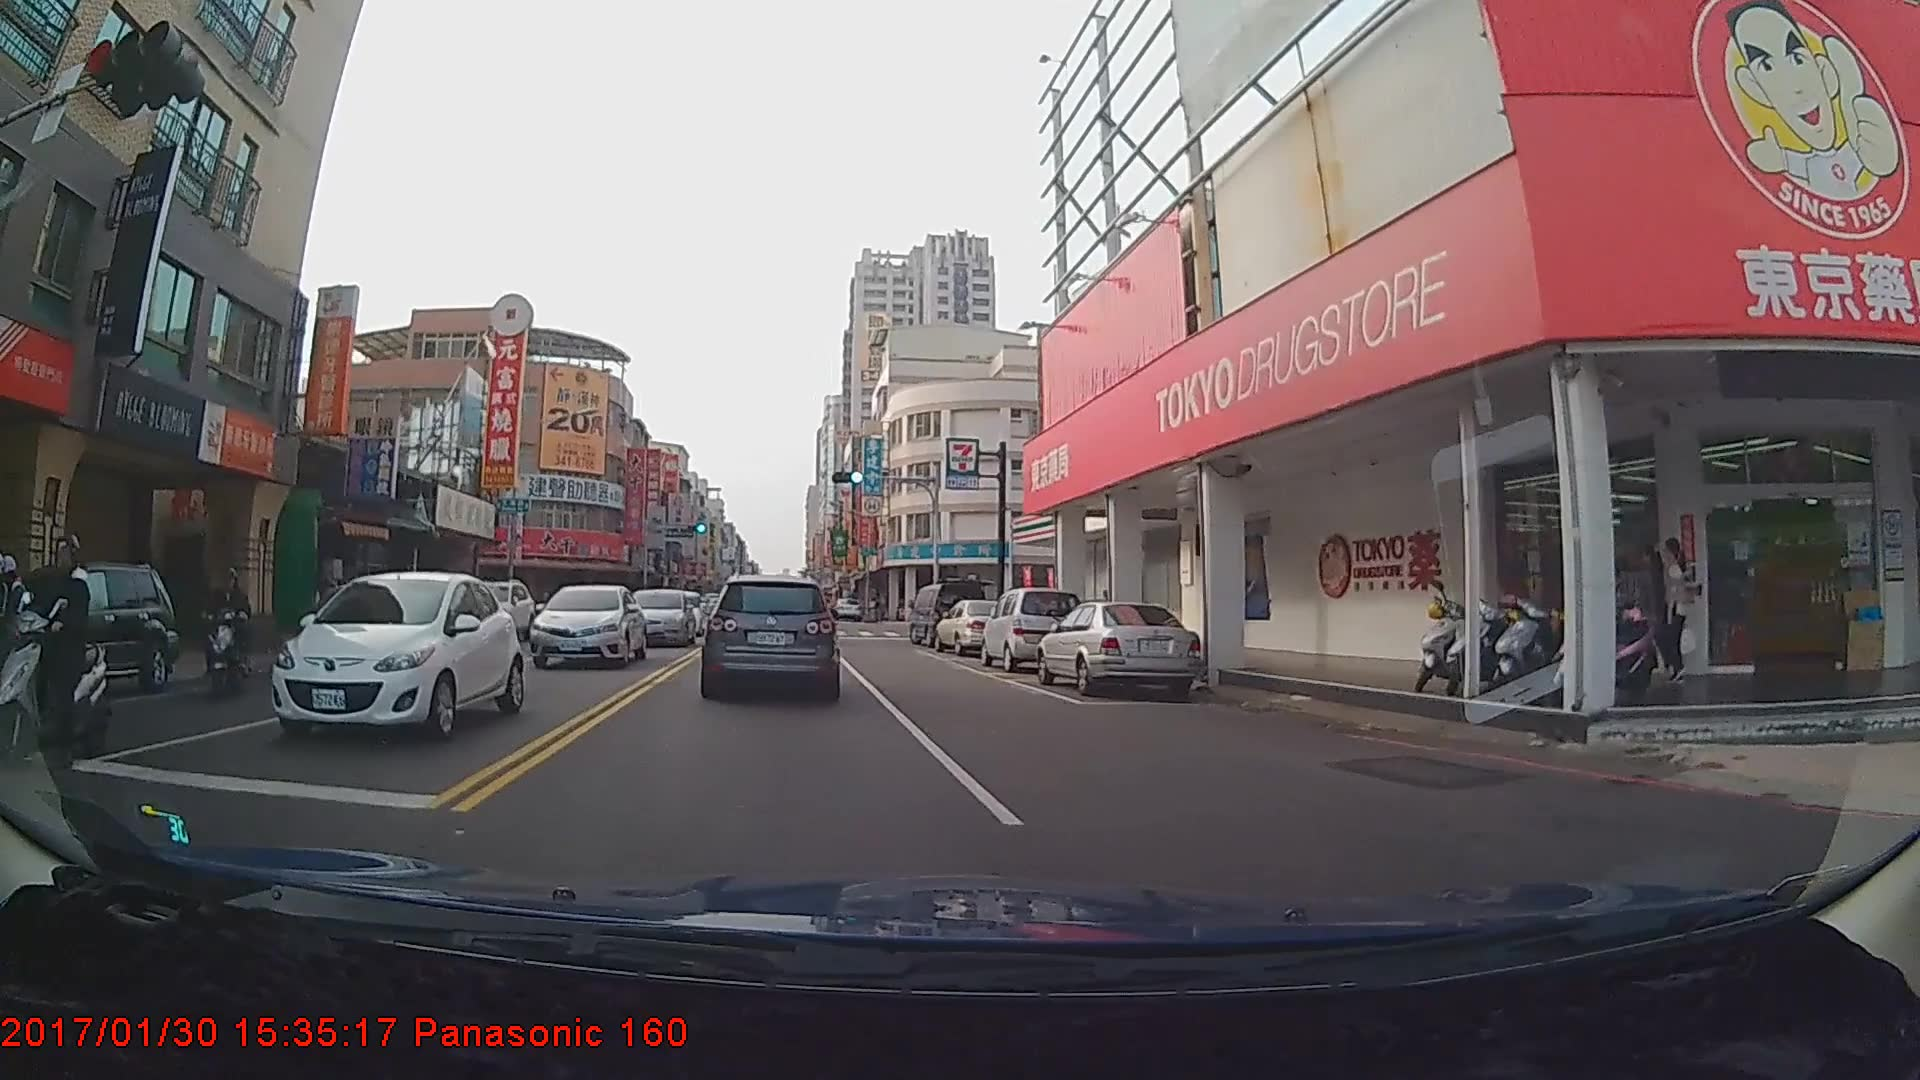pedestrian: (1628, 544, 1677, 684), (1659, 532, 1697, 687)
rider: (18, 538, 120, 758), (198, 565, 263, 698)
vehicle: (249, 568, 511, 748), (0, 560, 176, 694), (1033, 598, 1201, 703), (703, 575, 836, 700), (527, 583, 646, 668), (981, 587, 1083, 673), (904, 578, 988, 649), (450, 578, 532, 642), (931, 599, 1016, 656), (618, 587, 695, 647), (832, 595, 861, 620)
